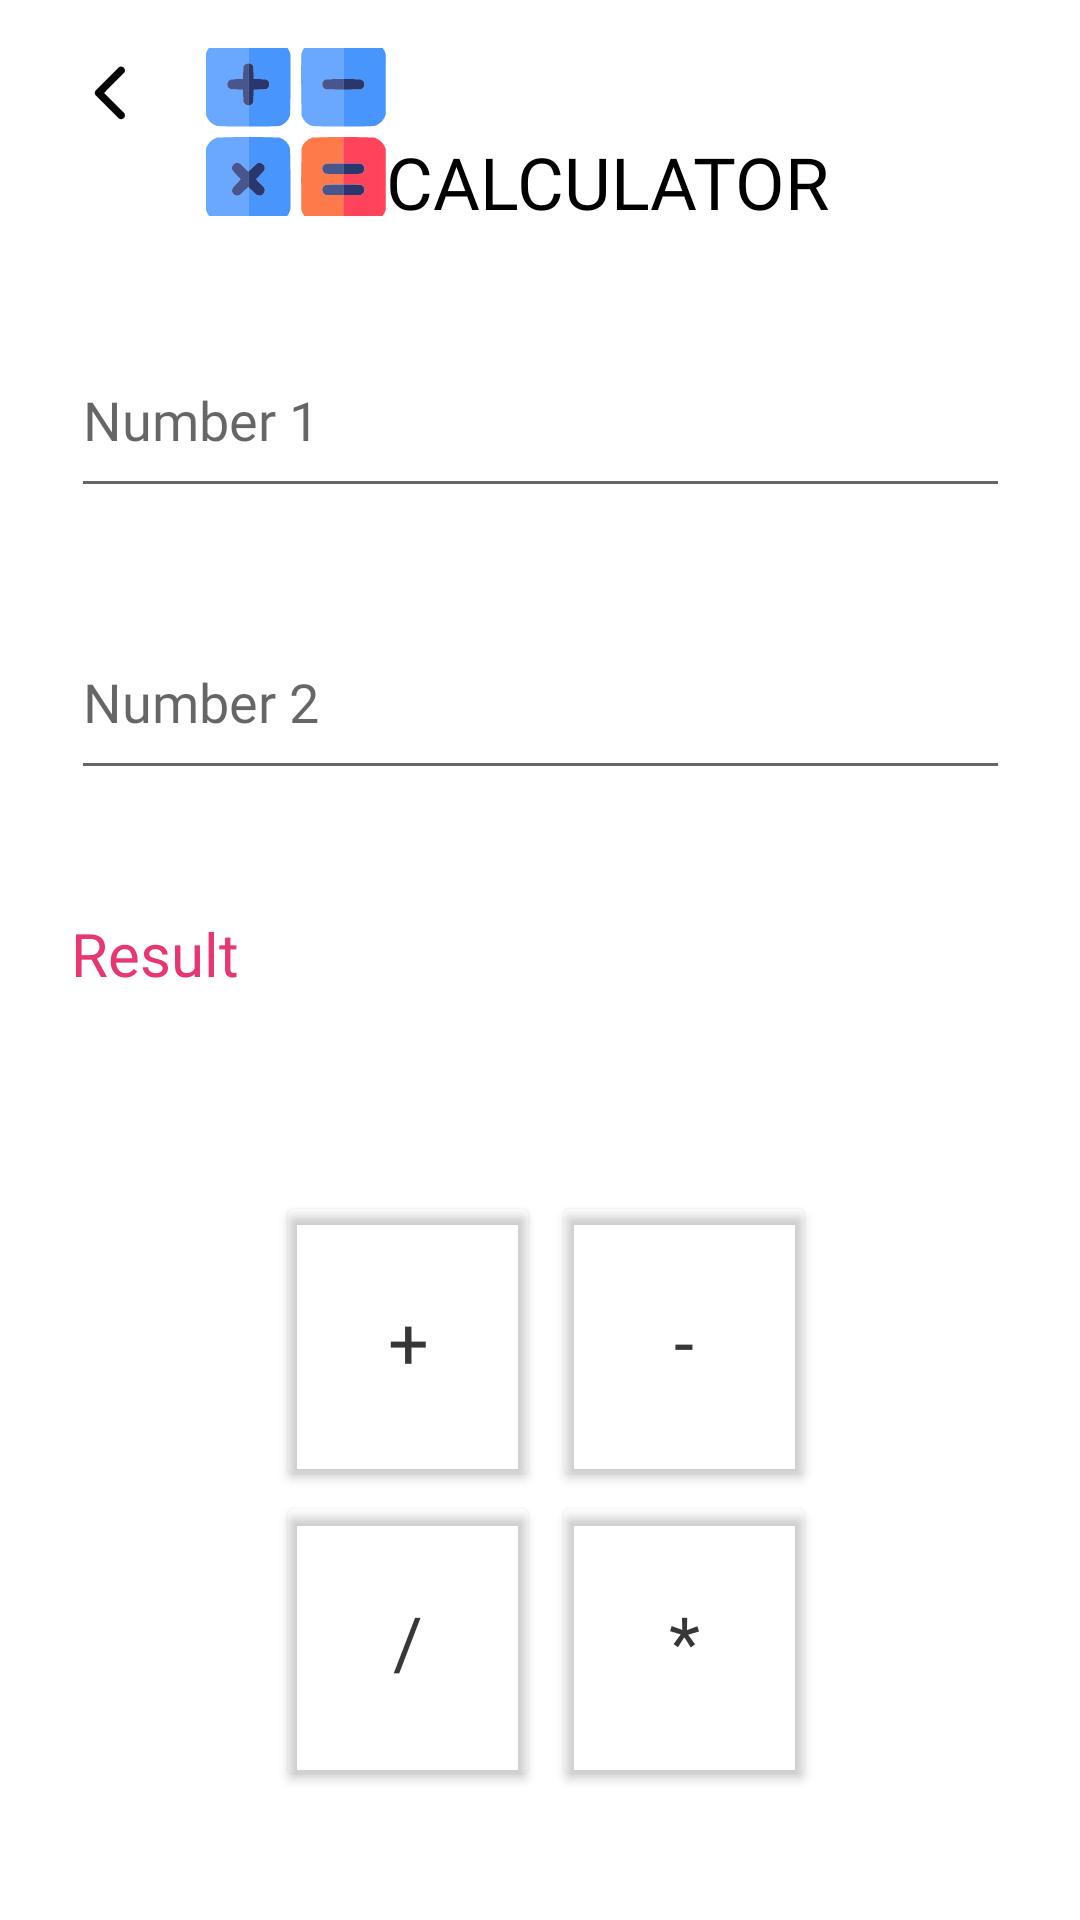

Icon click points for this 1080x1920 phone screenshot, format (x=x, y=y):
back: (x=109, y=93)
